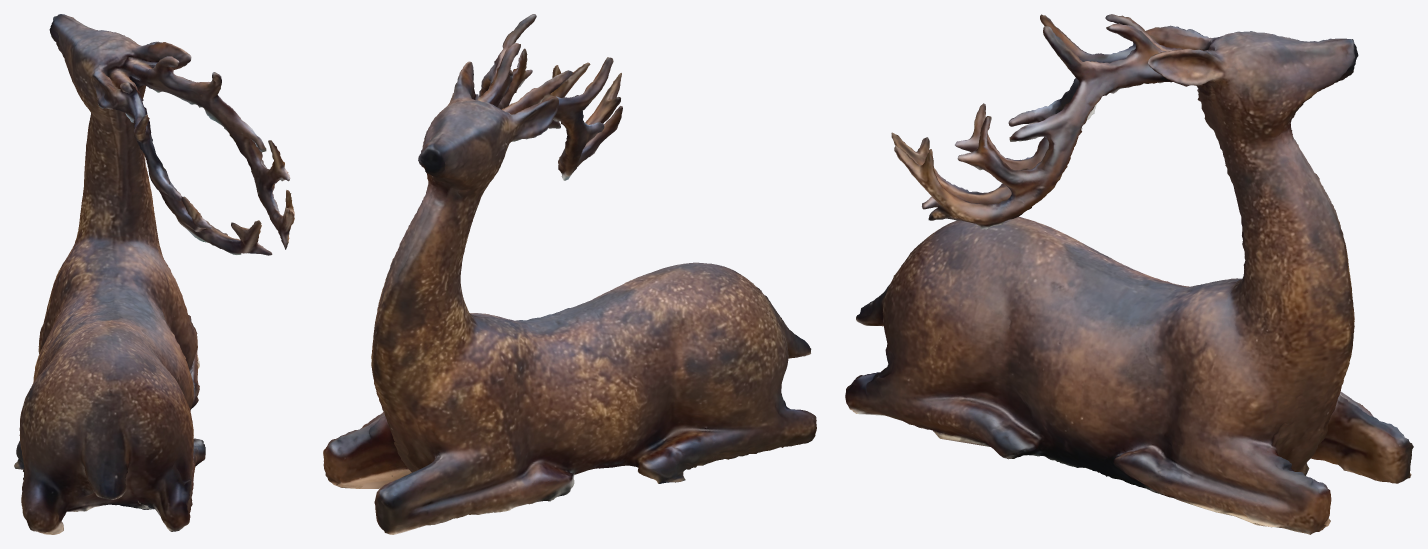
The model's file is deer_statue_stylized.glb.
3 views of the same model, side by side, from view 1: azimuth 30°, elevation 25°; view 2: azimuth 150°, elevation 25°; view 3: azimuth 270°, elevation 25° (orthographic). The views are drawn at different scales.
Parts seen in each view (by area): view 1: model; view 2: model; view 3: model.
Boxes of the visible parts, <box> form: model: <box>14,14,294,534</box>; model: <box>323,14,816,534</box>; model: <box>845,14,1413,534</box>.
Size of the model in its own units: 0.1276 by 0.1459 by 0.1641.
1 material, 1 textured.
